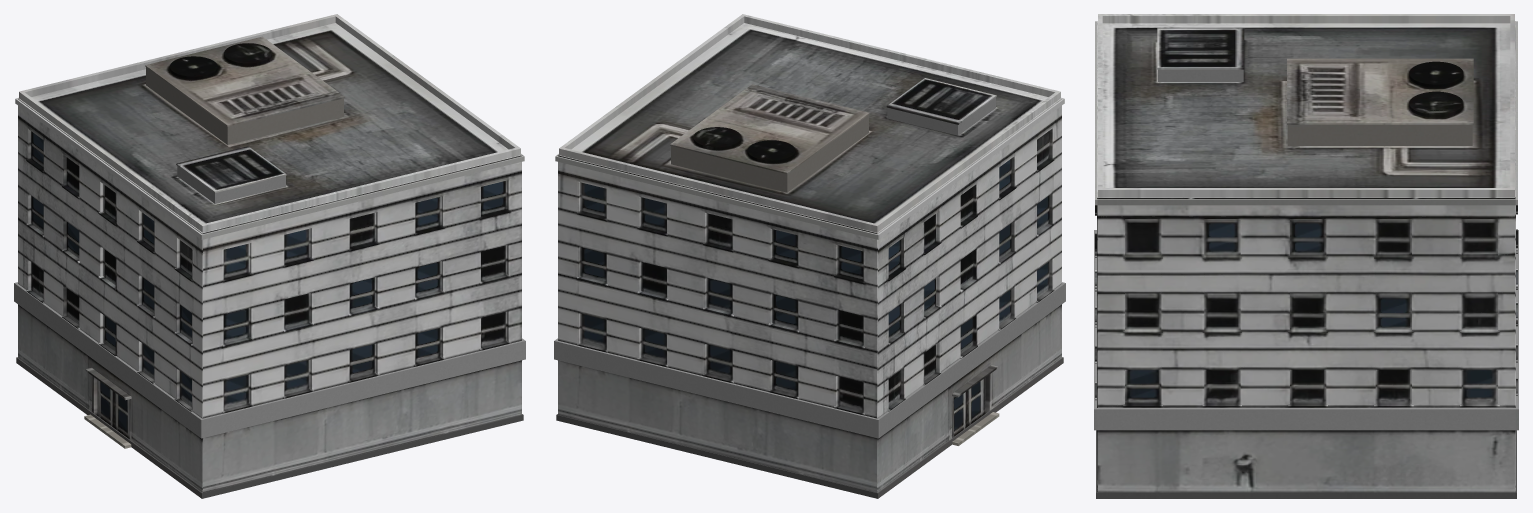
File: city4storyc_cad.glb
The picture shows the model from 3 angles, left to right: view 1: azimuth 30°, elevation 25°; view 2: azimuth 150°, elevation 25°; view 3: azimuth 270°, elevation 25°; orthographic projection. The views are drawn at different scales.
Visible parts, largest first — view 1: City4Story_; view 2: City4Story_; view 3: City4Story_.
Boxes of the visible parts, x1,y1,x2,y2 form: City4Story_: (14,14,525,498); City4Story_: (554,14,1065,498); City4Story_: (1094,14,1518,498).
Bounding box in the file's own units: 18.44 × 15.4 × 18.16.
Materials: 1 (1 with a texture image).
